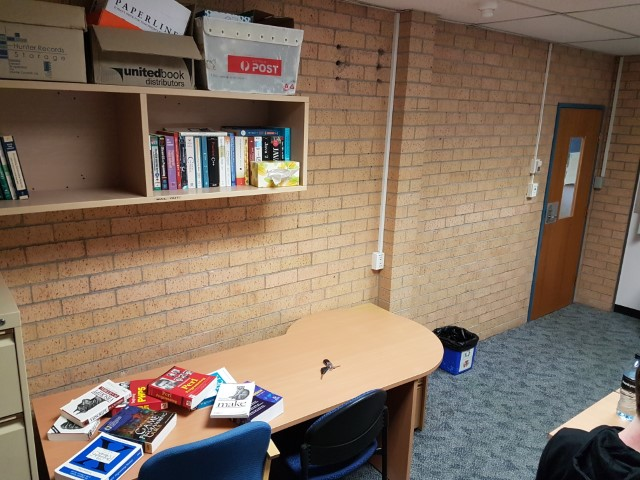key: (319, 366, 330, 380)
